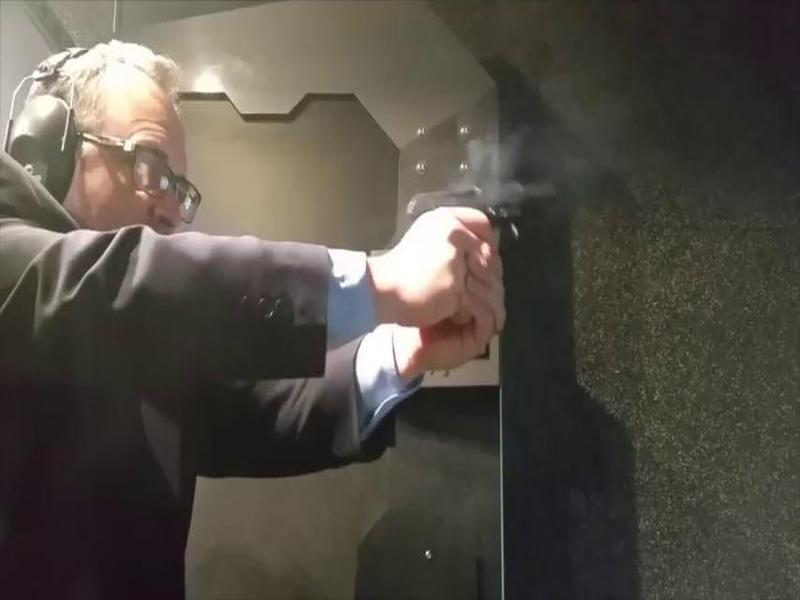Pistola: (370, 167, 551, 273)
